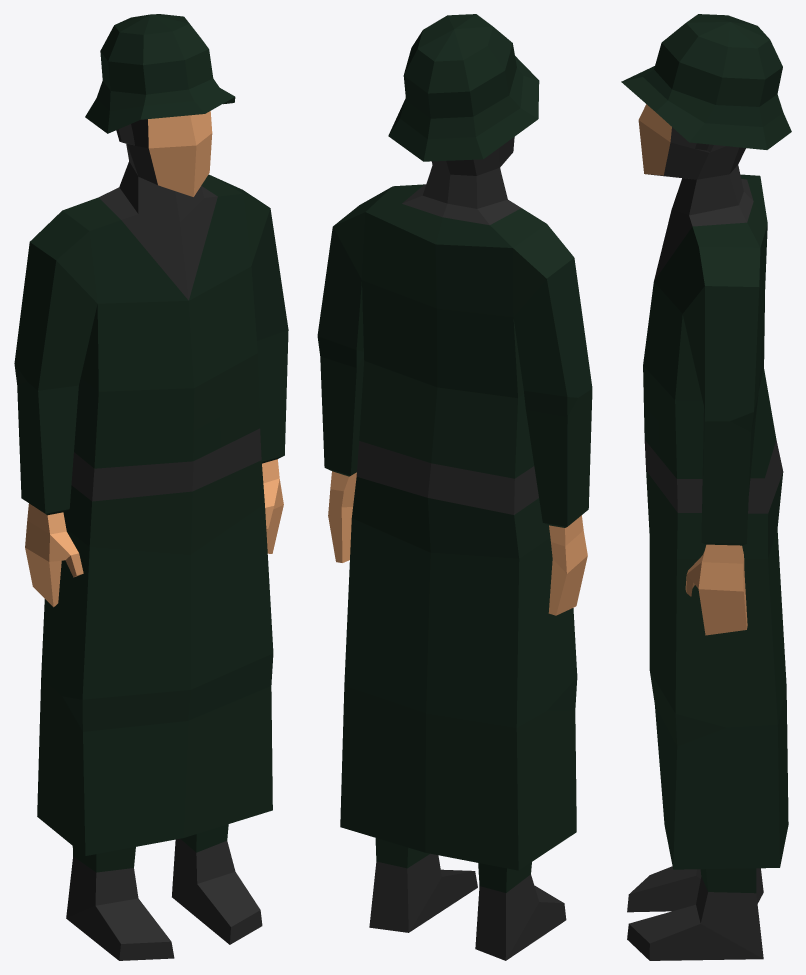
Rendered from man-soldier-special-ge.glb.
The picture shows the model from 3 angles, left to right: view 1: azimuth 30°, elevation 25°; view 2: azimuth 150°, elevation 25°; view 3: azimuth 270°, elevation 25°; orthographic projection.
Parts seen in each view (by area): view 1: man-soldier-special-ge; view 2: man-soldier-special-ge; view 3: man-soldier-special-ge.
Part boxes in pixels (x1=…): man-soldier-special-ge: x1=14, y1=14, x2=288, y2=960; man-soldier-special-ge: x1=317, y1=14, x2=592, y2=960; man-soldier-special-ge: x1=621, y1=14, x2=791, y2=960.
Size of the model in its own units: 0.5438 by 1.87 by 0.3199.
Materials: 1 (1 with a texture image).
